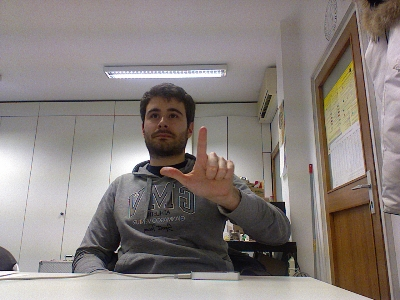枪: (158, 124, 234, 199)
